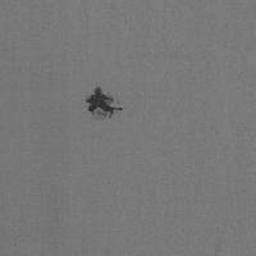Inclusion: (83, 86, 124, 120)
